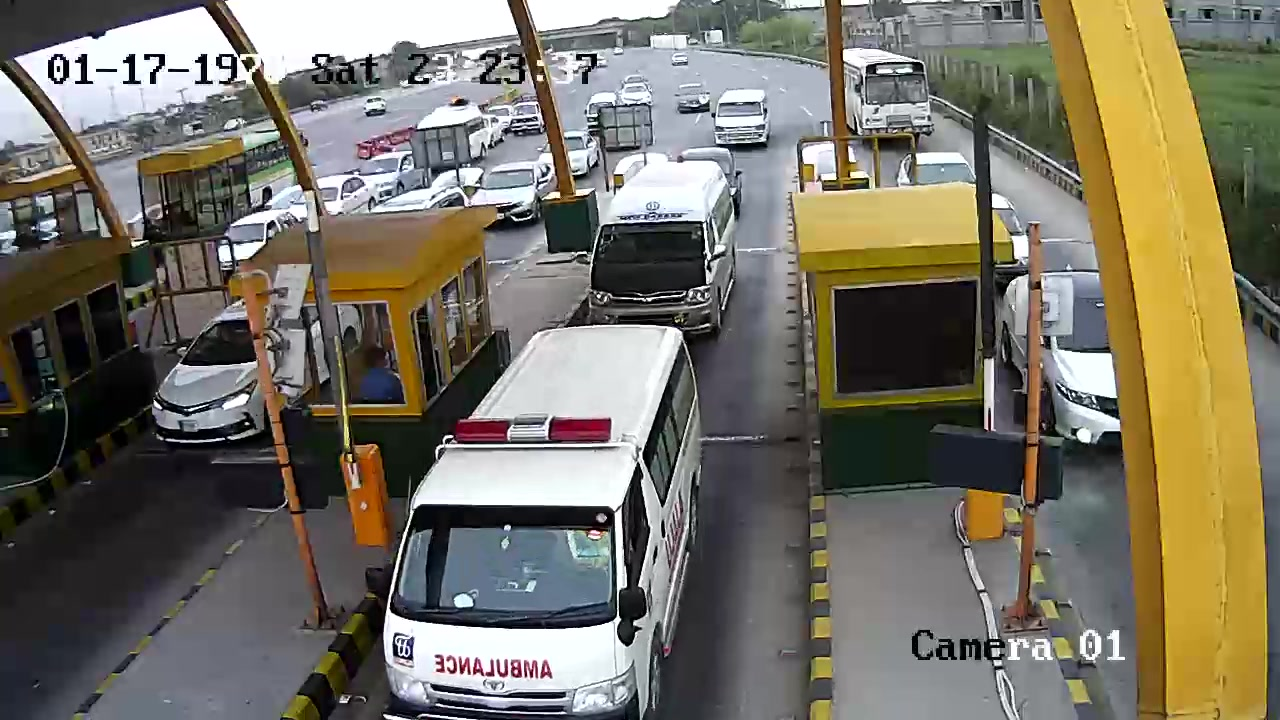F3: (382, 327, 722, 717), (595, 162, 739, 325)
